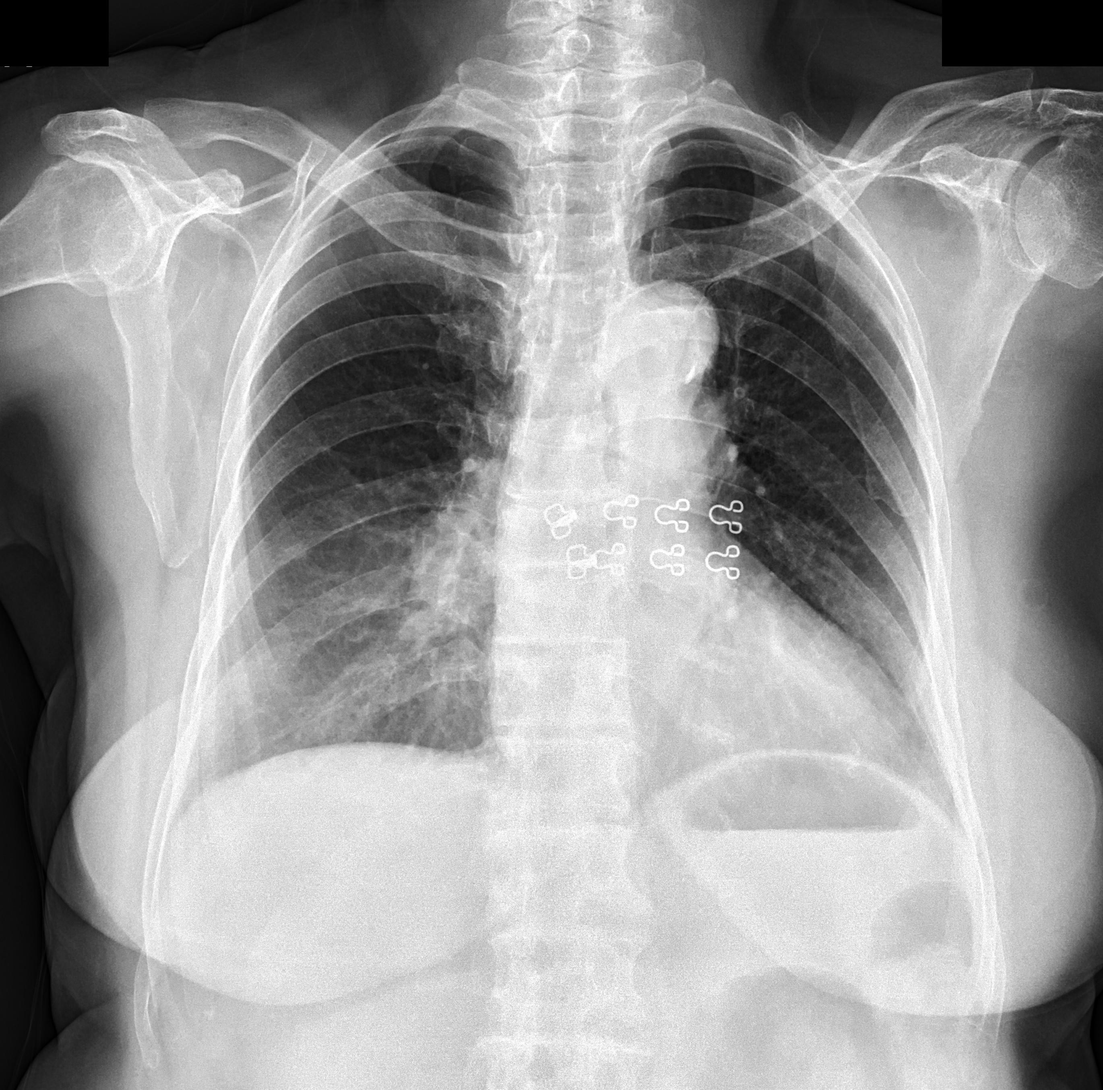Aortic enlargement: (596, 275, 723, 400)
Cardiomegaly: (473, 657, 928, 802)
